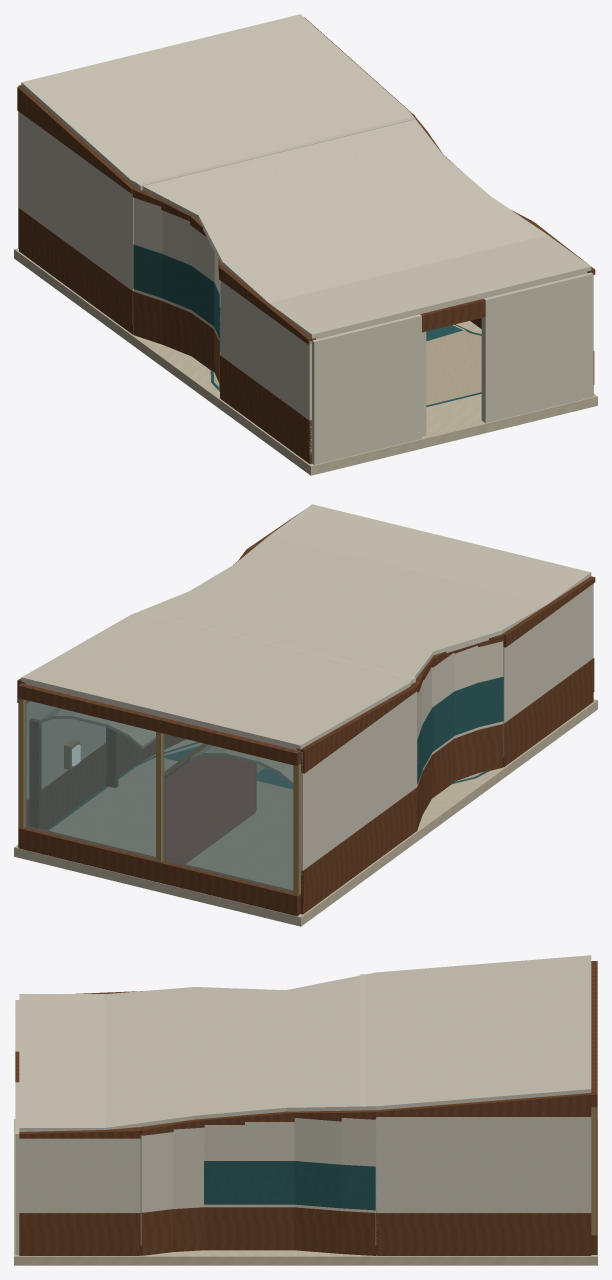
File: shell.glb
The picture shows the model from 3 angles, top to bottom: view 1: azimuth 30°, elevation 25°; view 2: azimuth 150°, elevation 25°; view 3: azimuth 270°, elevation 25°; orthographic projection.
Parts seen in each view (by area): view 1: SUI_Runtime_ivory_enamel, SUI_Runtime_warm_walnut, SUI_Runtime_warm_stone, SUI_Runtime_teal_weave, SUI_Runtime_oatmeal_weave; view 2: SUI_Runtime_ivory_enamel, SUI_Runtime_warm_walnut, SUI_Runtime_SuiteHospitalityGlass, SUI_Runtime_oatmeal_weave, SUI_Runtime_clay_weave, SUI_Runtime_warm_stone, SUI_Runtime_teal_weave, SUI_Runtime_champagne_metal; view 3: SUI_Runtime_ivory_enamel, SUI_Runtime_warm_walnut, SUI_Runtime_teal_weave, SUI_Runtime_warm_stone, SUI_Runtime_champagne_metal.
Part boxes in pixels (left/top/right/bottom): SUI_Runtime_ivory_enamel: left=19, top=14, right=593, bottom=464; SUI_Runtime_warm_walnut: left=17, top=17, right=595, bottom=463; SUI_Runtime_warm_stone: left=14, top=248, right=597, bottom=475; SUI_Runtime_teal_weave: left=133, top=244, right=481, bottom=406; SUI_Runtime_oatmeal_weave: left=213, top=324, right=481, bottom=405; SUI_Runtime_ivory_enamel: left=21, top=504, right=593, bottom=885; SUI_Runtime_warm_walnut: left=17, top=511, right=595, bottom=916; SUI_Runtime_SuiteHospitalityGlass: left=25, top=700, right=293, bottom=892; SUI_Runtime_oatmeal_weave: left=39, top=708, right=482, bottom=889; SUI_Runtime_clay_weave: left=164, top=756, right=256, bottom=863; SUI_Runtime_warm_stone: left=14, top=699, right=597, bottom=926; SUI_Runtime_teal_weave: left=46, top=677, right=503, bottom=830; SUI_Runtime_champagne_metal: left=18, top=698, right=300, bottom=895; SUI_Runtime_ivory_enamel: left=15, top=955, right=591, bottom=1254; SUI_Runtime_warm_walnut: left=15, top=961, right=597, bottom=1255; SUI_Runtime_teal_weave: left=204, top=1161, right=375, bottom=1210; SUI_Runtime_warm_stone: left=14, top=1119, right=597, bottom=1265; SUI_Runtime_champagne_metal: left=591, top=1107, right=596, bottom=1235.
Bounding box in the file's own units: 7.2 × 4.26 × 12.9.
9 materials, 7 textured.
